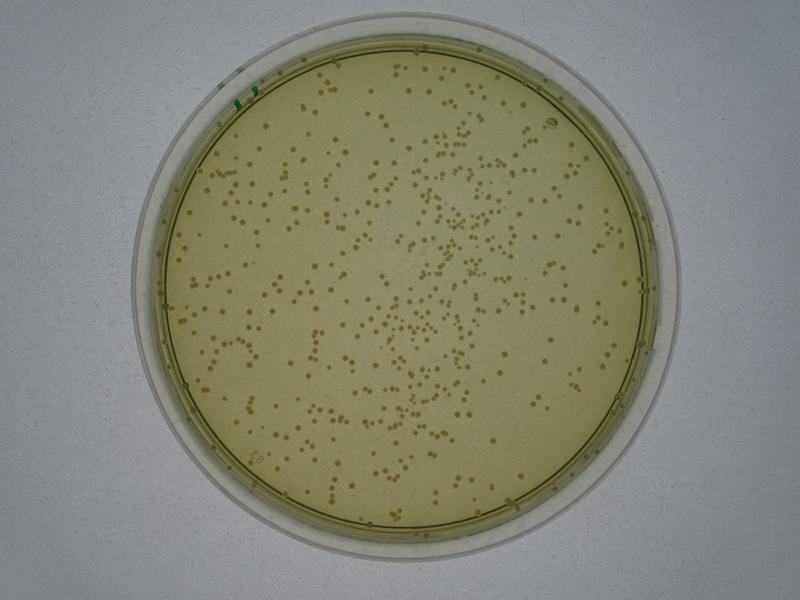colony: (485, 435, 502, 447), (270, 401, 282, 414), (245, 305, 256, 318), (365, 86, 378, 97), (309, 260, 319, 272), (540, 355, 550, 367), (288, 143, 298, 155), (332, 457, 342, 469), (513, 210, 526, 219), (244, 159, 254, 170), (403, 85, 414, 95), (370, 360, 380, 371), (324, 284, 336, 293), (309, 305, 322, 313), (545, 334, 556, 343), (261, 121, 272, 130), (267, 306, 277, 315), (500, 347, 509, 357), (594, 298, 604, 307), (337, 319, 346, 329), (341, 148, 351, 156), (222, 241, 230, 251), (285, 359, 294, 367), (498, 367, 504, 378), (175, 258, 183, 264)
